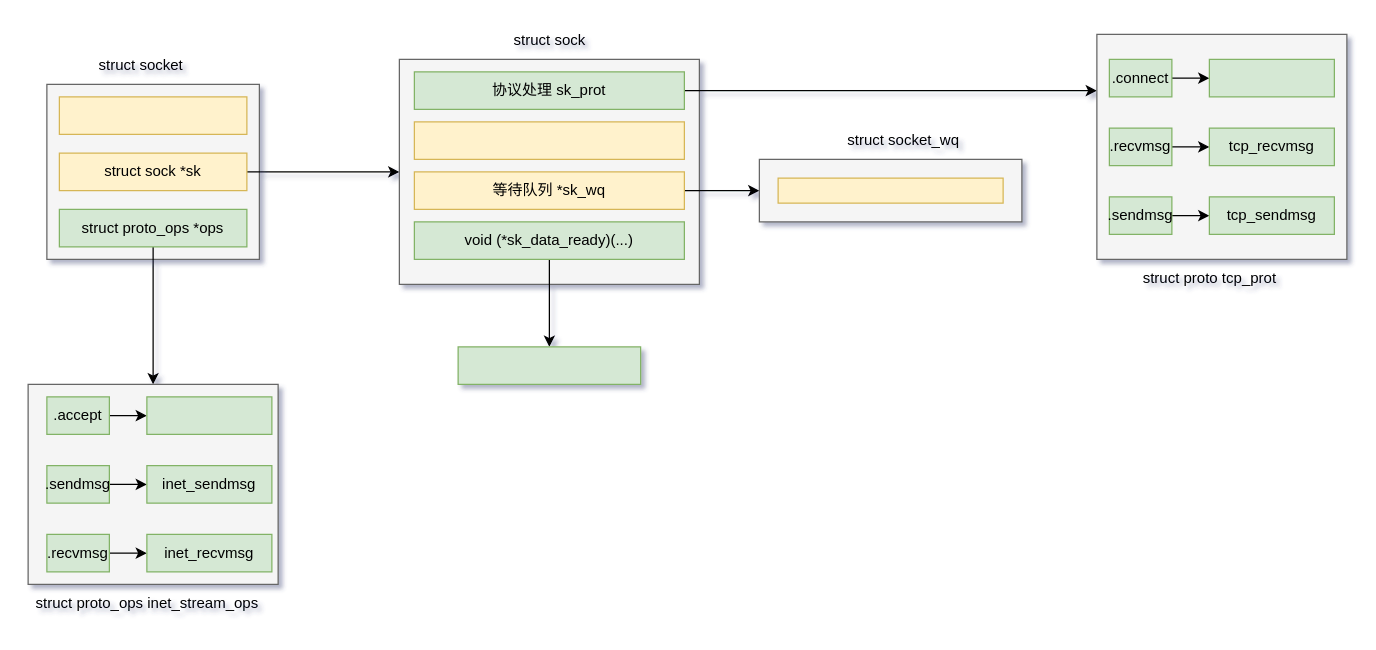
Some shapes in this 1376 by 650 pixel diagram are drawn without their labels. Here are the shapes that lost their labels. From the top down, the centre of each, then its label:
At [1271,77]: "tcp_v4_connect".
At [152,115]: "struct *file".
At [548,140]: "接收队列 sk_receive_queue".
At [890,190]: "wait_queue_head_t wait".
At [549,365]: "sock_def_readable".
At [209,415]: "inet_accept".
